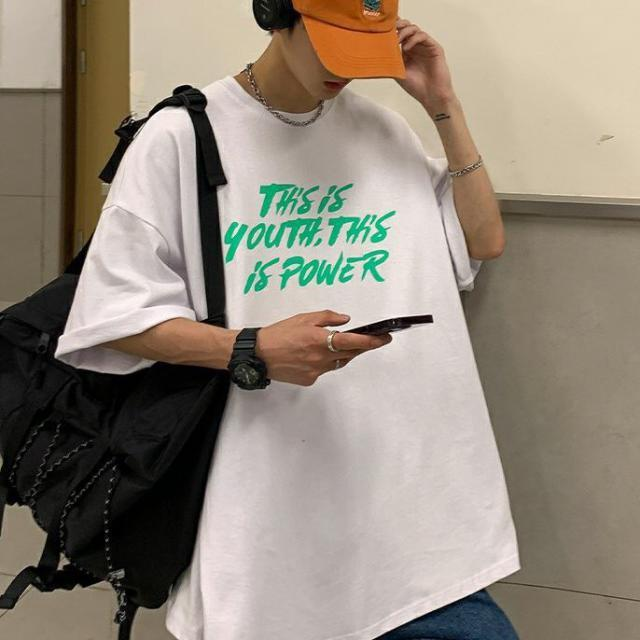Shirt: (49, 52, 528, 639)
